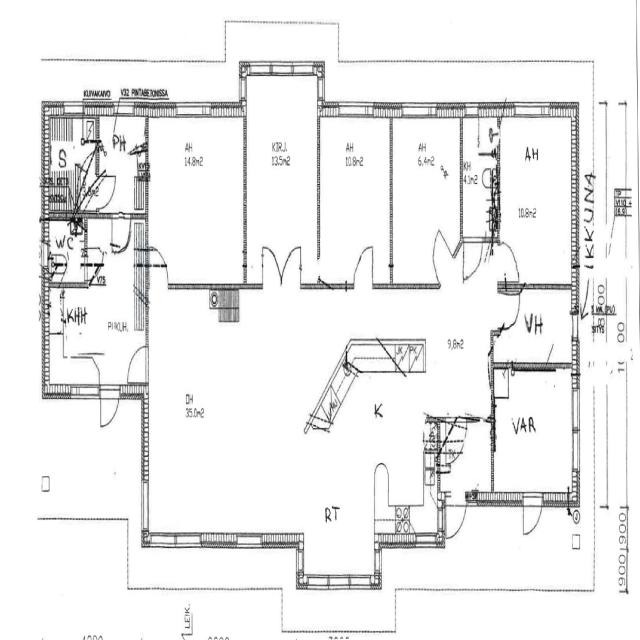door: (258, 238, 304, 286), (348, 238, 378, 292), (430, 224, 455, 279), (496, 238, 521, 285), (498, 286, 522, 332), (99, 382, 121, 431), (522, 492, 544, 540), (462, 233, 484, 280), (125, 342, 148, 385), (444, 498, 466, 540), (111, 212, 132, 255), (96, 170, 118, 211), (150, 242, 169, 276)
window: (570, 382, 583, 470), (335, 96, 377, 123), (160, 527, 202, 553), (375, 338, 405, 373), (174, 96, 215, 121), (510, 97, 550, 120), (138, 472, 152, 534), (401, 98, 439, 120), (338, 350, 360, 384), (68, 384, 101, 403), (235, 530, 263, 552), (291, 54, 316, 78), (269, 56, 296, 78), (248, 55, 274, 76), (306, 574, 330, 594), (349, 574, 372, 592), (328, 574, 351, 592), (415, 534, 437, 552), (116, 96, 135, 116), (64, 98, 85, 115), (570, 308, 579, 341)
zone: (147, 110, 246, 286), (244, 69, 320, 280), (496, 113, 576, 288), (317, 111, 393, 288), (389, 112, 462, 282), (492, 364, 578, 501), (370, 378, 437, 545), (302, 436, 376, 586), (44, 280, 146, 362), (506, 284, 581, 368), (43, 114, 97, 212), (98, 111, 148, 209), (461, 112, 497, 240), (441, 418, 493, 502), (43, 215, 86, 284), (125, 340, 148, 386)
